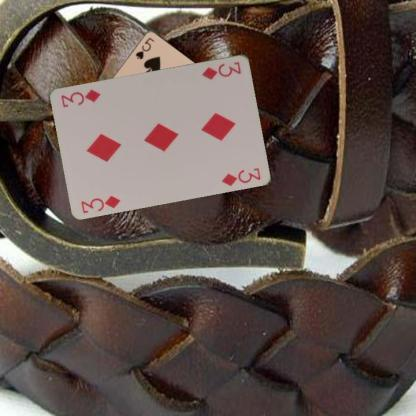3d: (199, 59, 243, 81), (78, 192, 122, 214)
5s: (133, 34, 156, 60)
